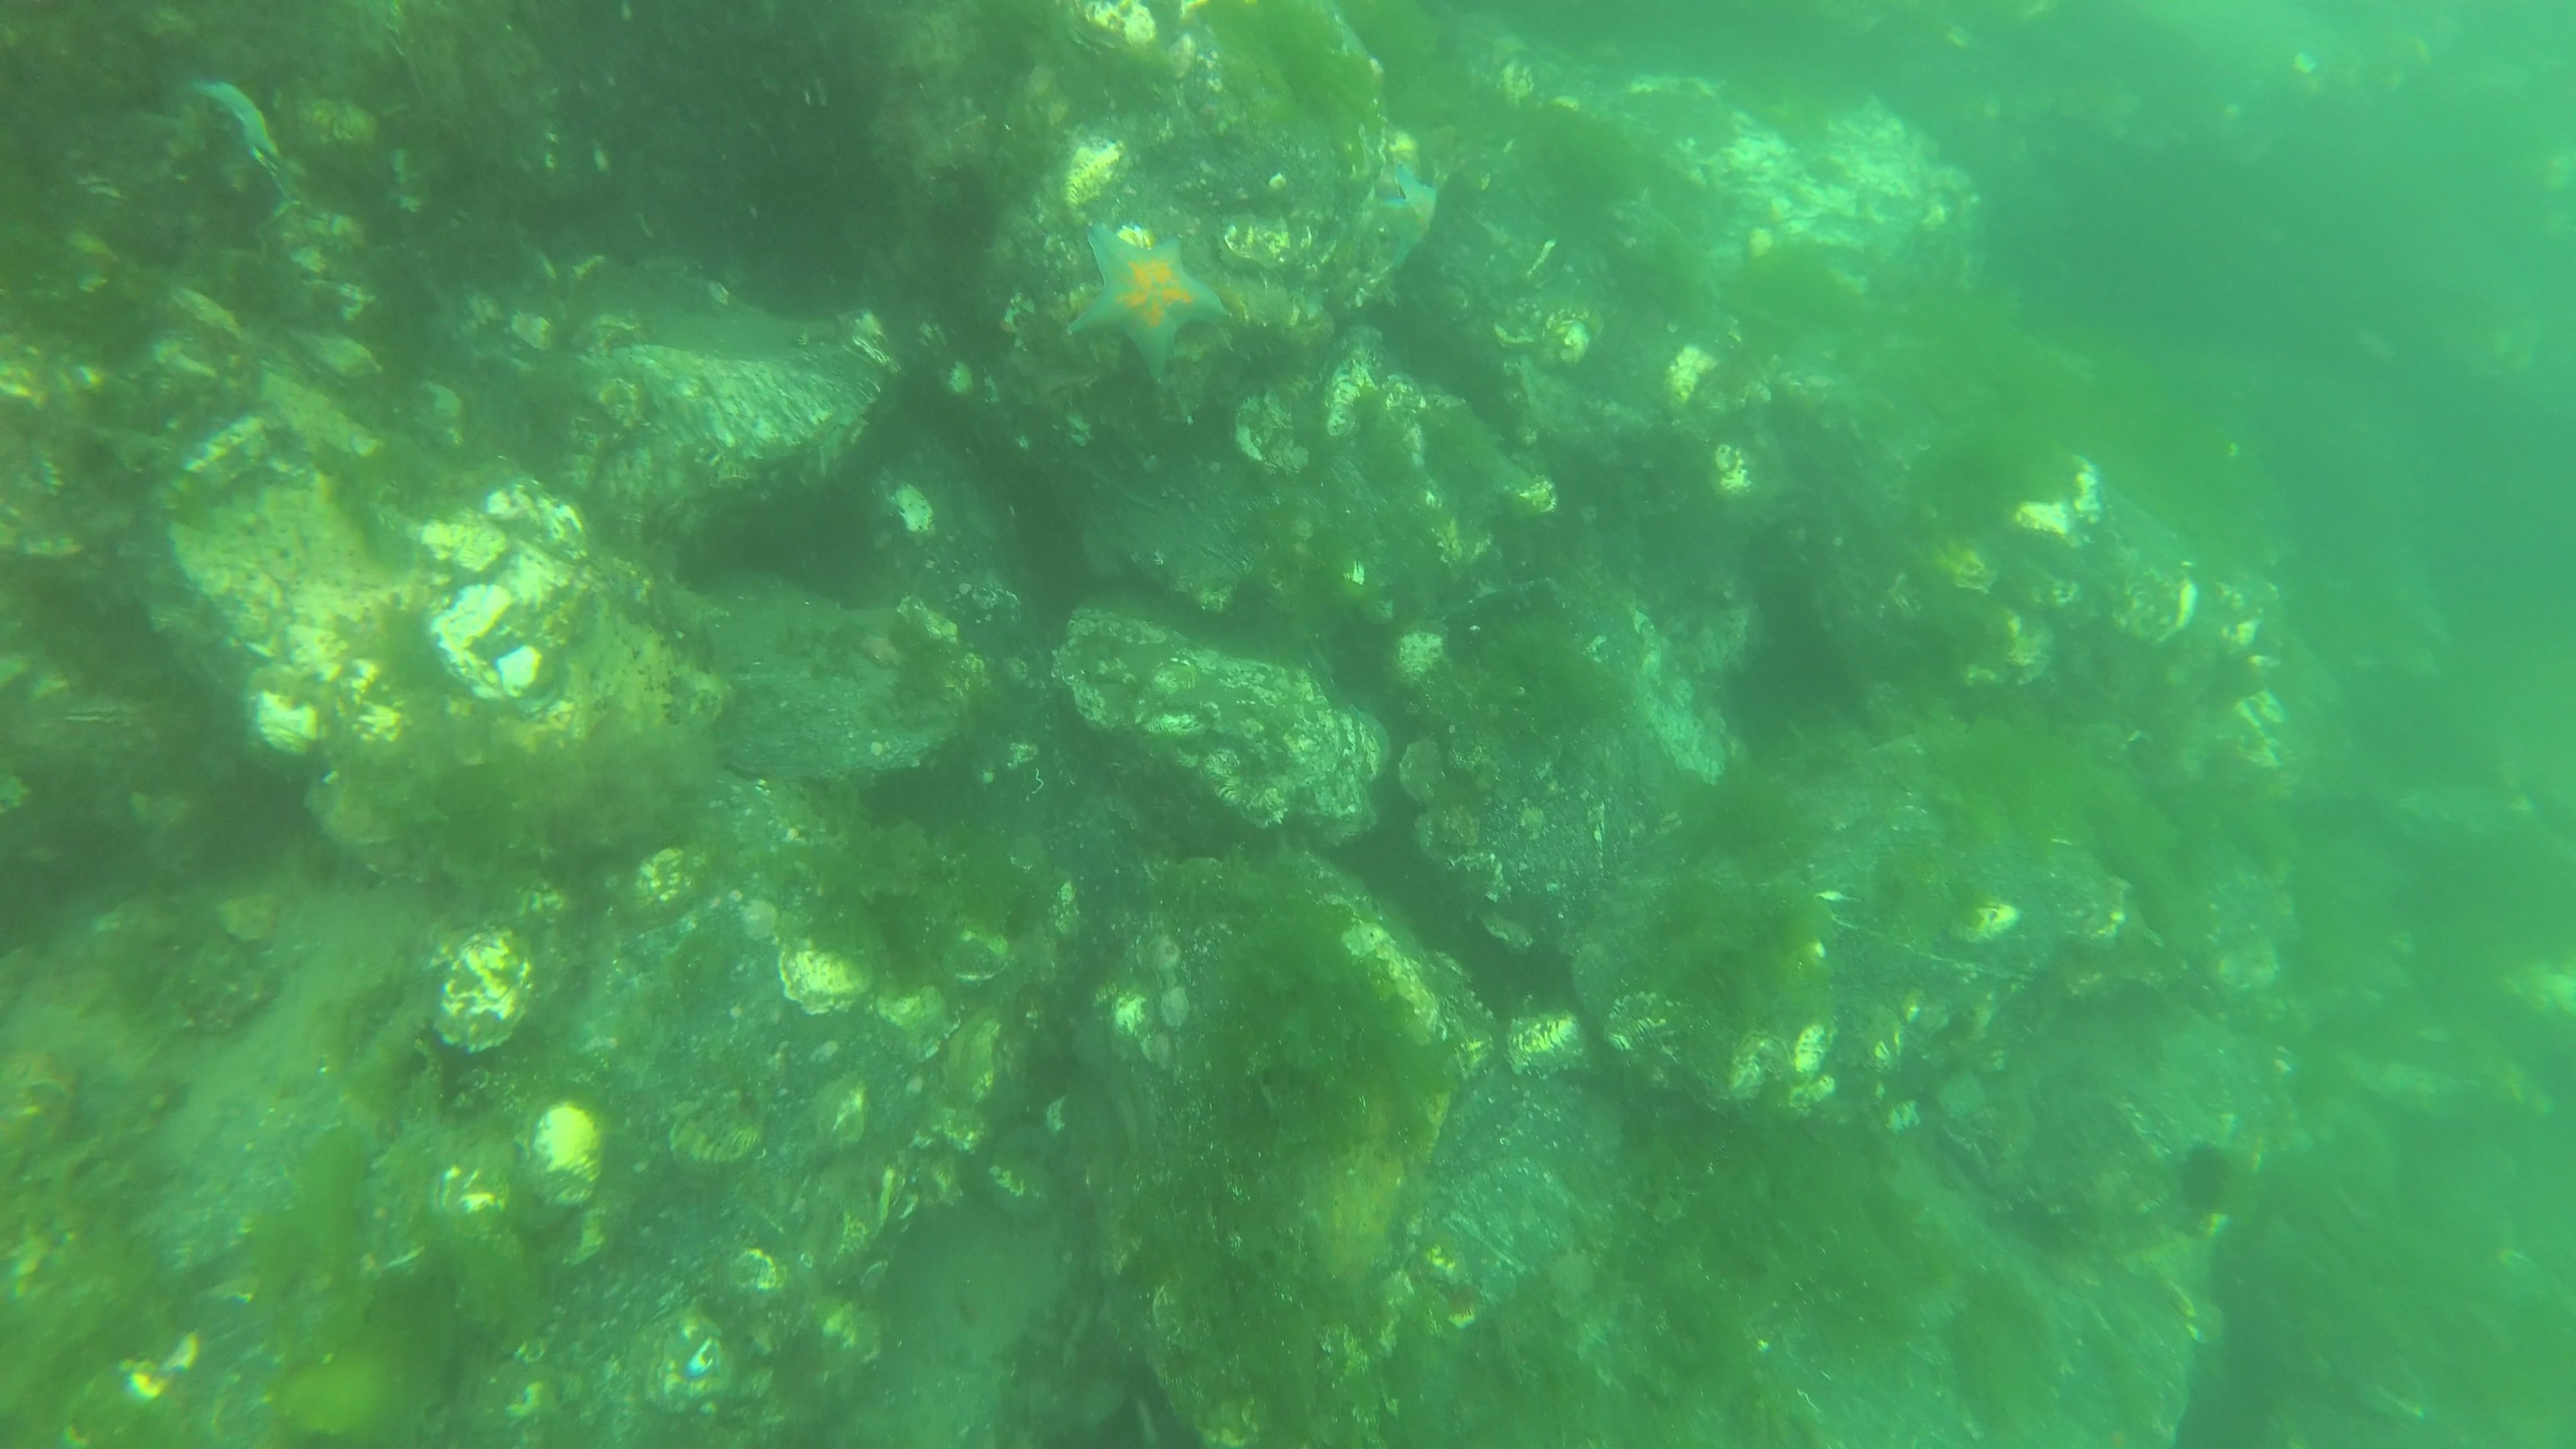echinus: (2176, 1136, 2238, 1226)
starfish: (1069, 219, 1233, 389), (186, 73, 295, 225), (1376, 165, 1438, 265)
